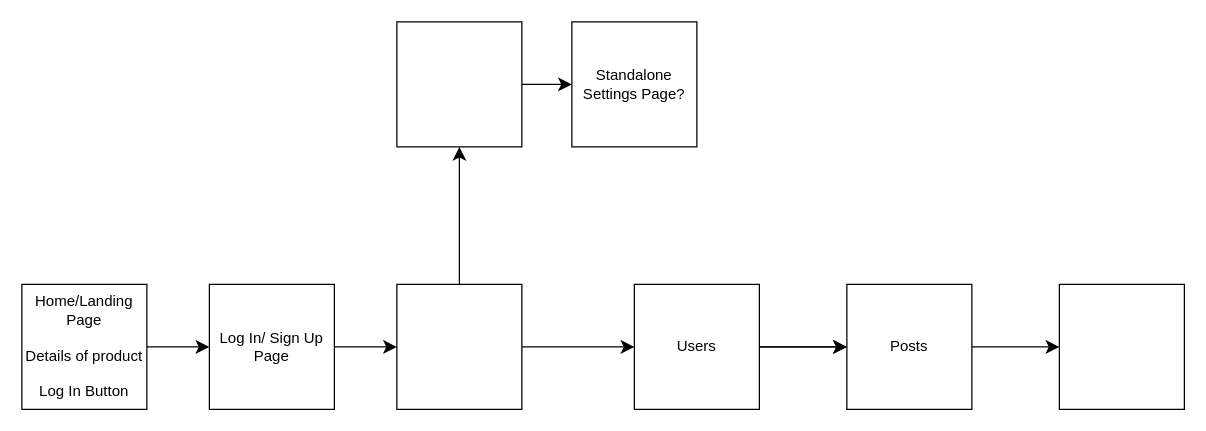
The diagram is 1206 pixels wide and 431 high, and some of its shapes have lost their labels. Each missing label, with the box of its shape:
Comments: (1058, 283, 1184, 409)
Dashboard Feed (similar to Facebook design): (396, 283, 522, 409)
Profile/ Settings: (396, 21, 522, 147)
